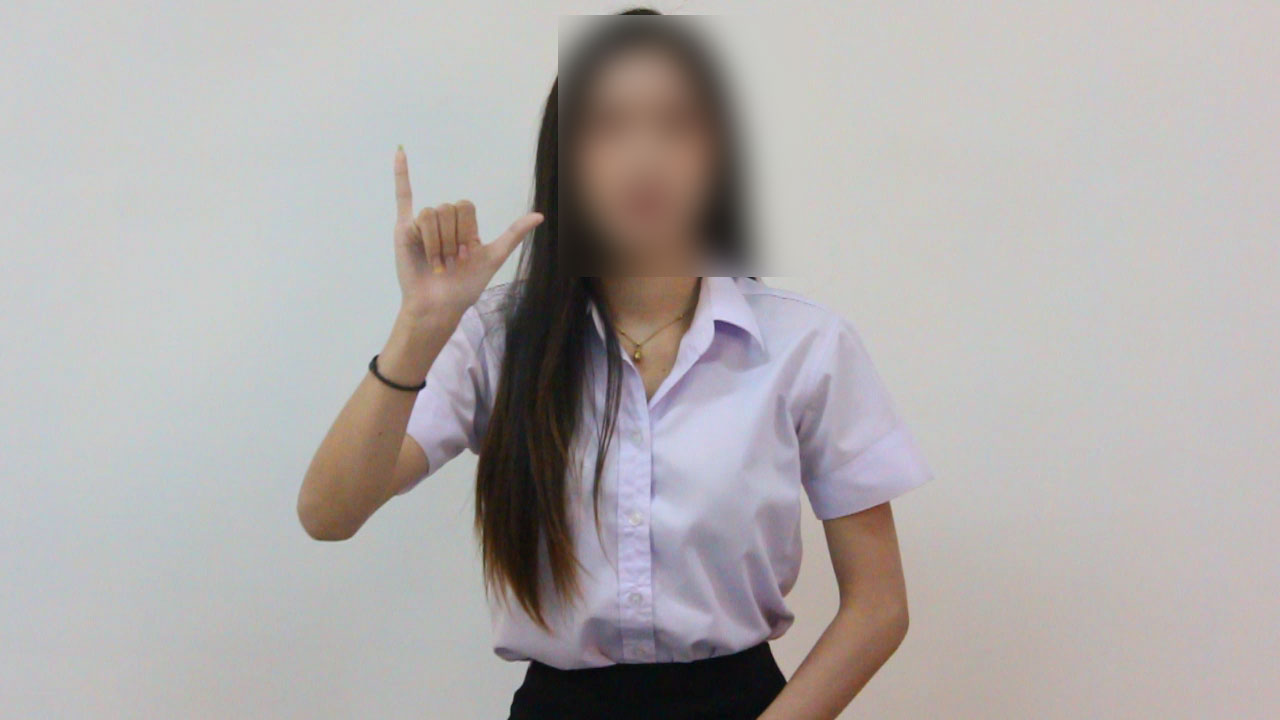yor: (372, 137, 556, 334)
